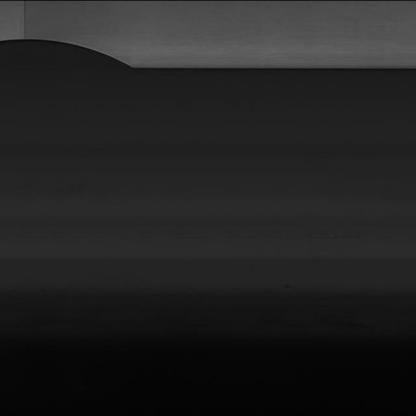crescent_gap: (0, 30, 141, 74)
